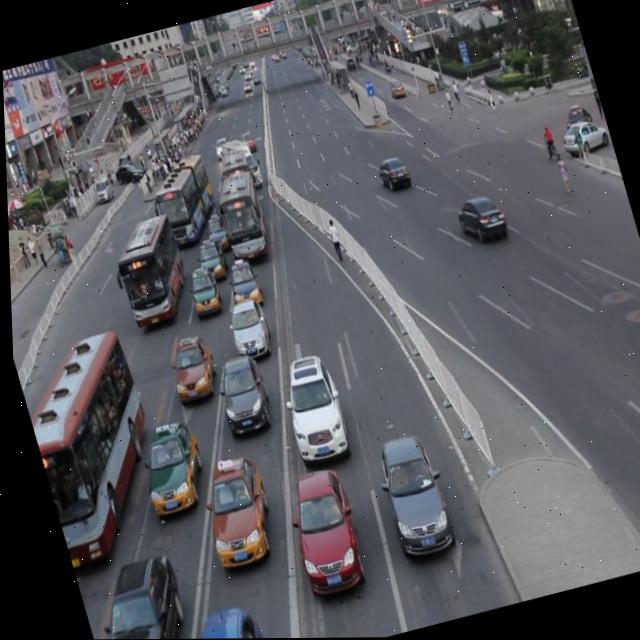bus: (216, 135, 263, 194)
car: (275, 462, 365, 598), (71, 548, 197, 640), (367, 431, 453, 556), (189, 451, 277, 568), (270, 353, 352, 466), (127, 415, 209, 516), (207, 352, 273, 435), (161, 333, 219, 400), (174, 604, 267, 639), (221, 297, 271, 359), (451, 193, 507, 246), (553, 113, 608, 158), (220, 256, 260, 307), (182, 265, 219, 313), (189, 236, 226, 280), (372, 154, 409, 191), (199, 211, 229, 251)
van: (10, 326, 175, 565), (100, 212, 194, 328), (141, 152, 221, 247), (207, 165, 272, 262), (214, 147, 261, 209)
